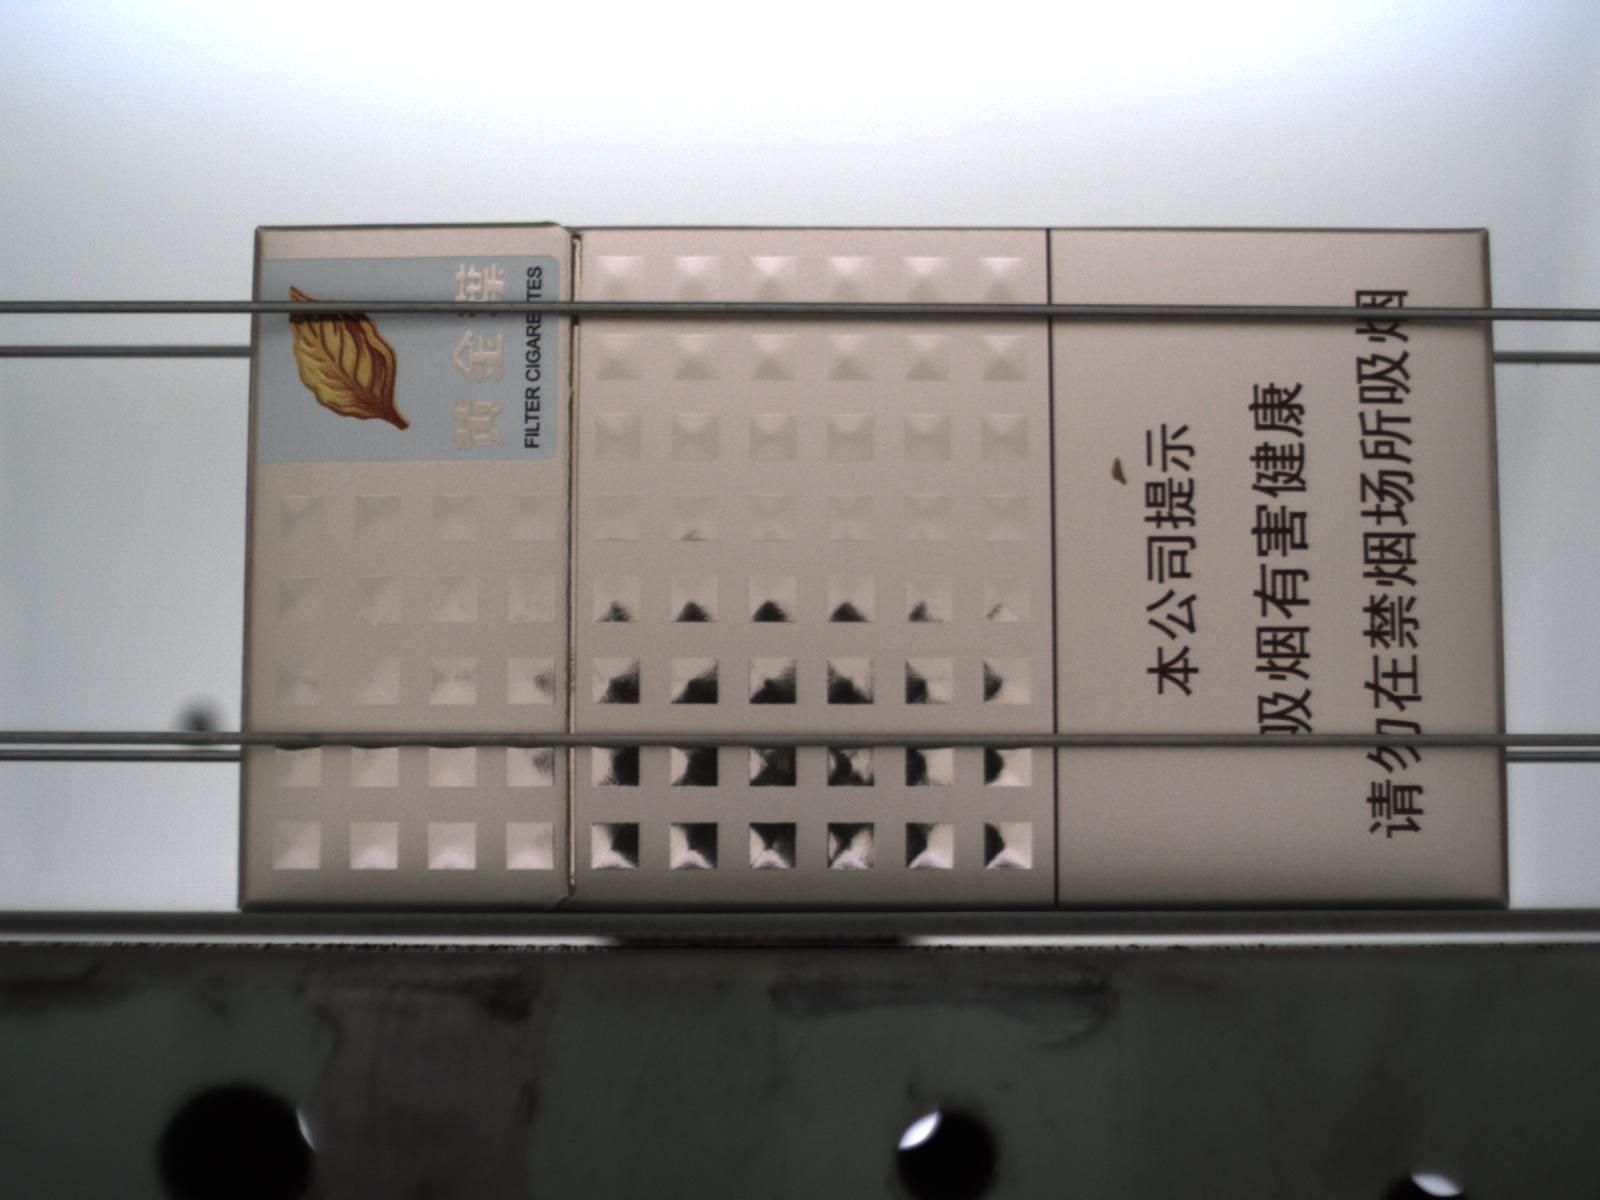dirtySpot: (1109, 458, 1131, 490)
